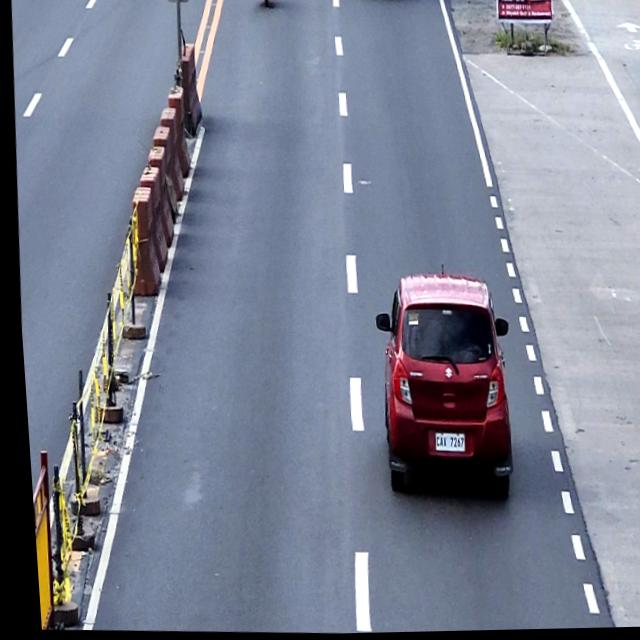Car: (361, 265, 515, 500)
License-Plate: (426, 430, 460, 454)
